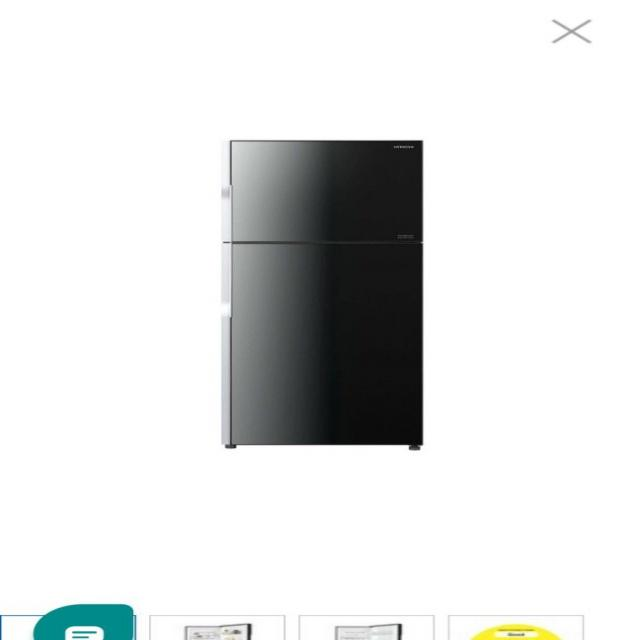refrigerator: (226, 137, 430, 451)
